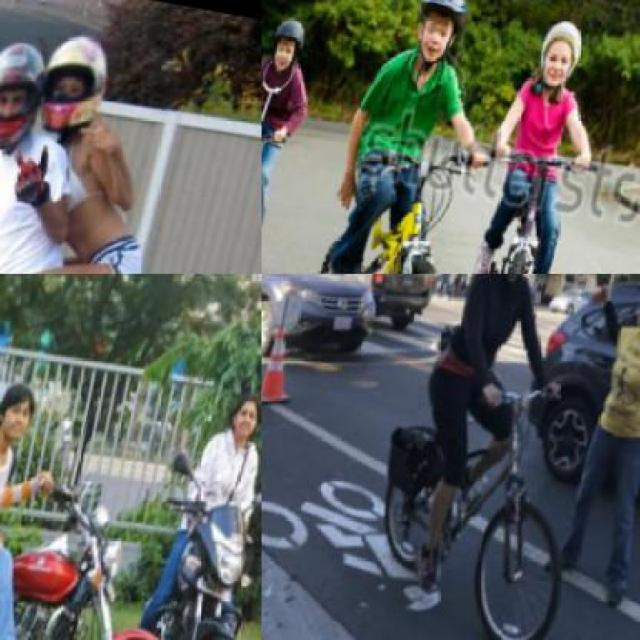With Helmet: (28, 31, 122, 155), (515, 2, 600, 112), (0, 37, 55, 164), (401, 0, 476, 72), (262, 8, 316, 89), (488, 274, 548, 292)
Without Helmet: (0, 374, 42, 448), (220, 389, 260, 463)
